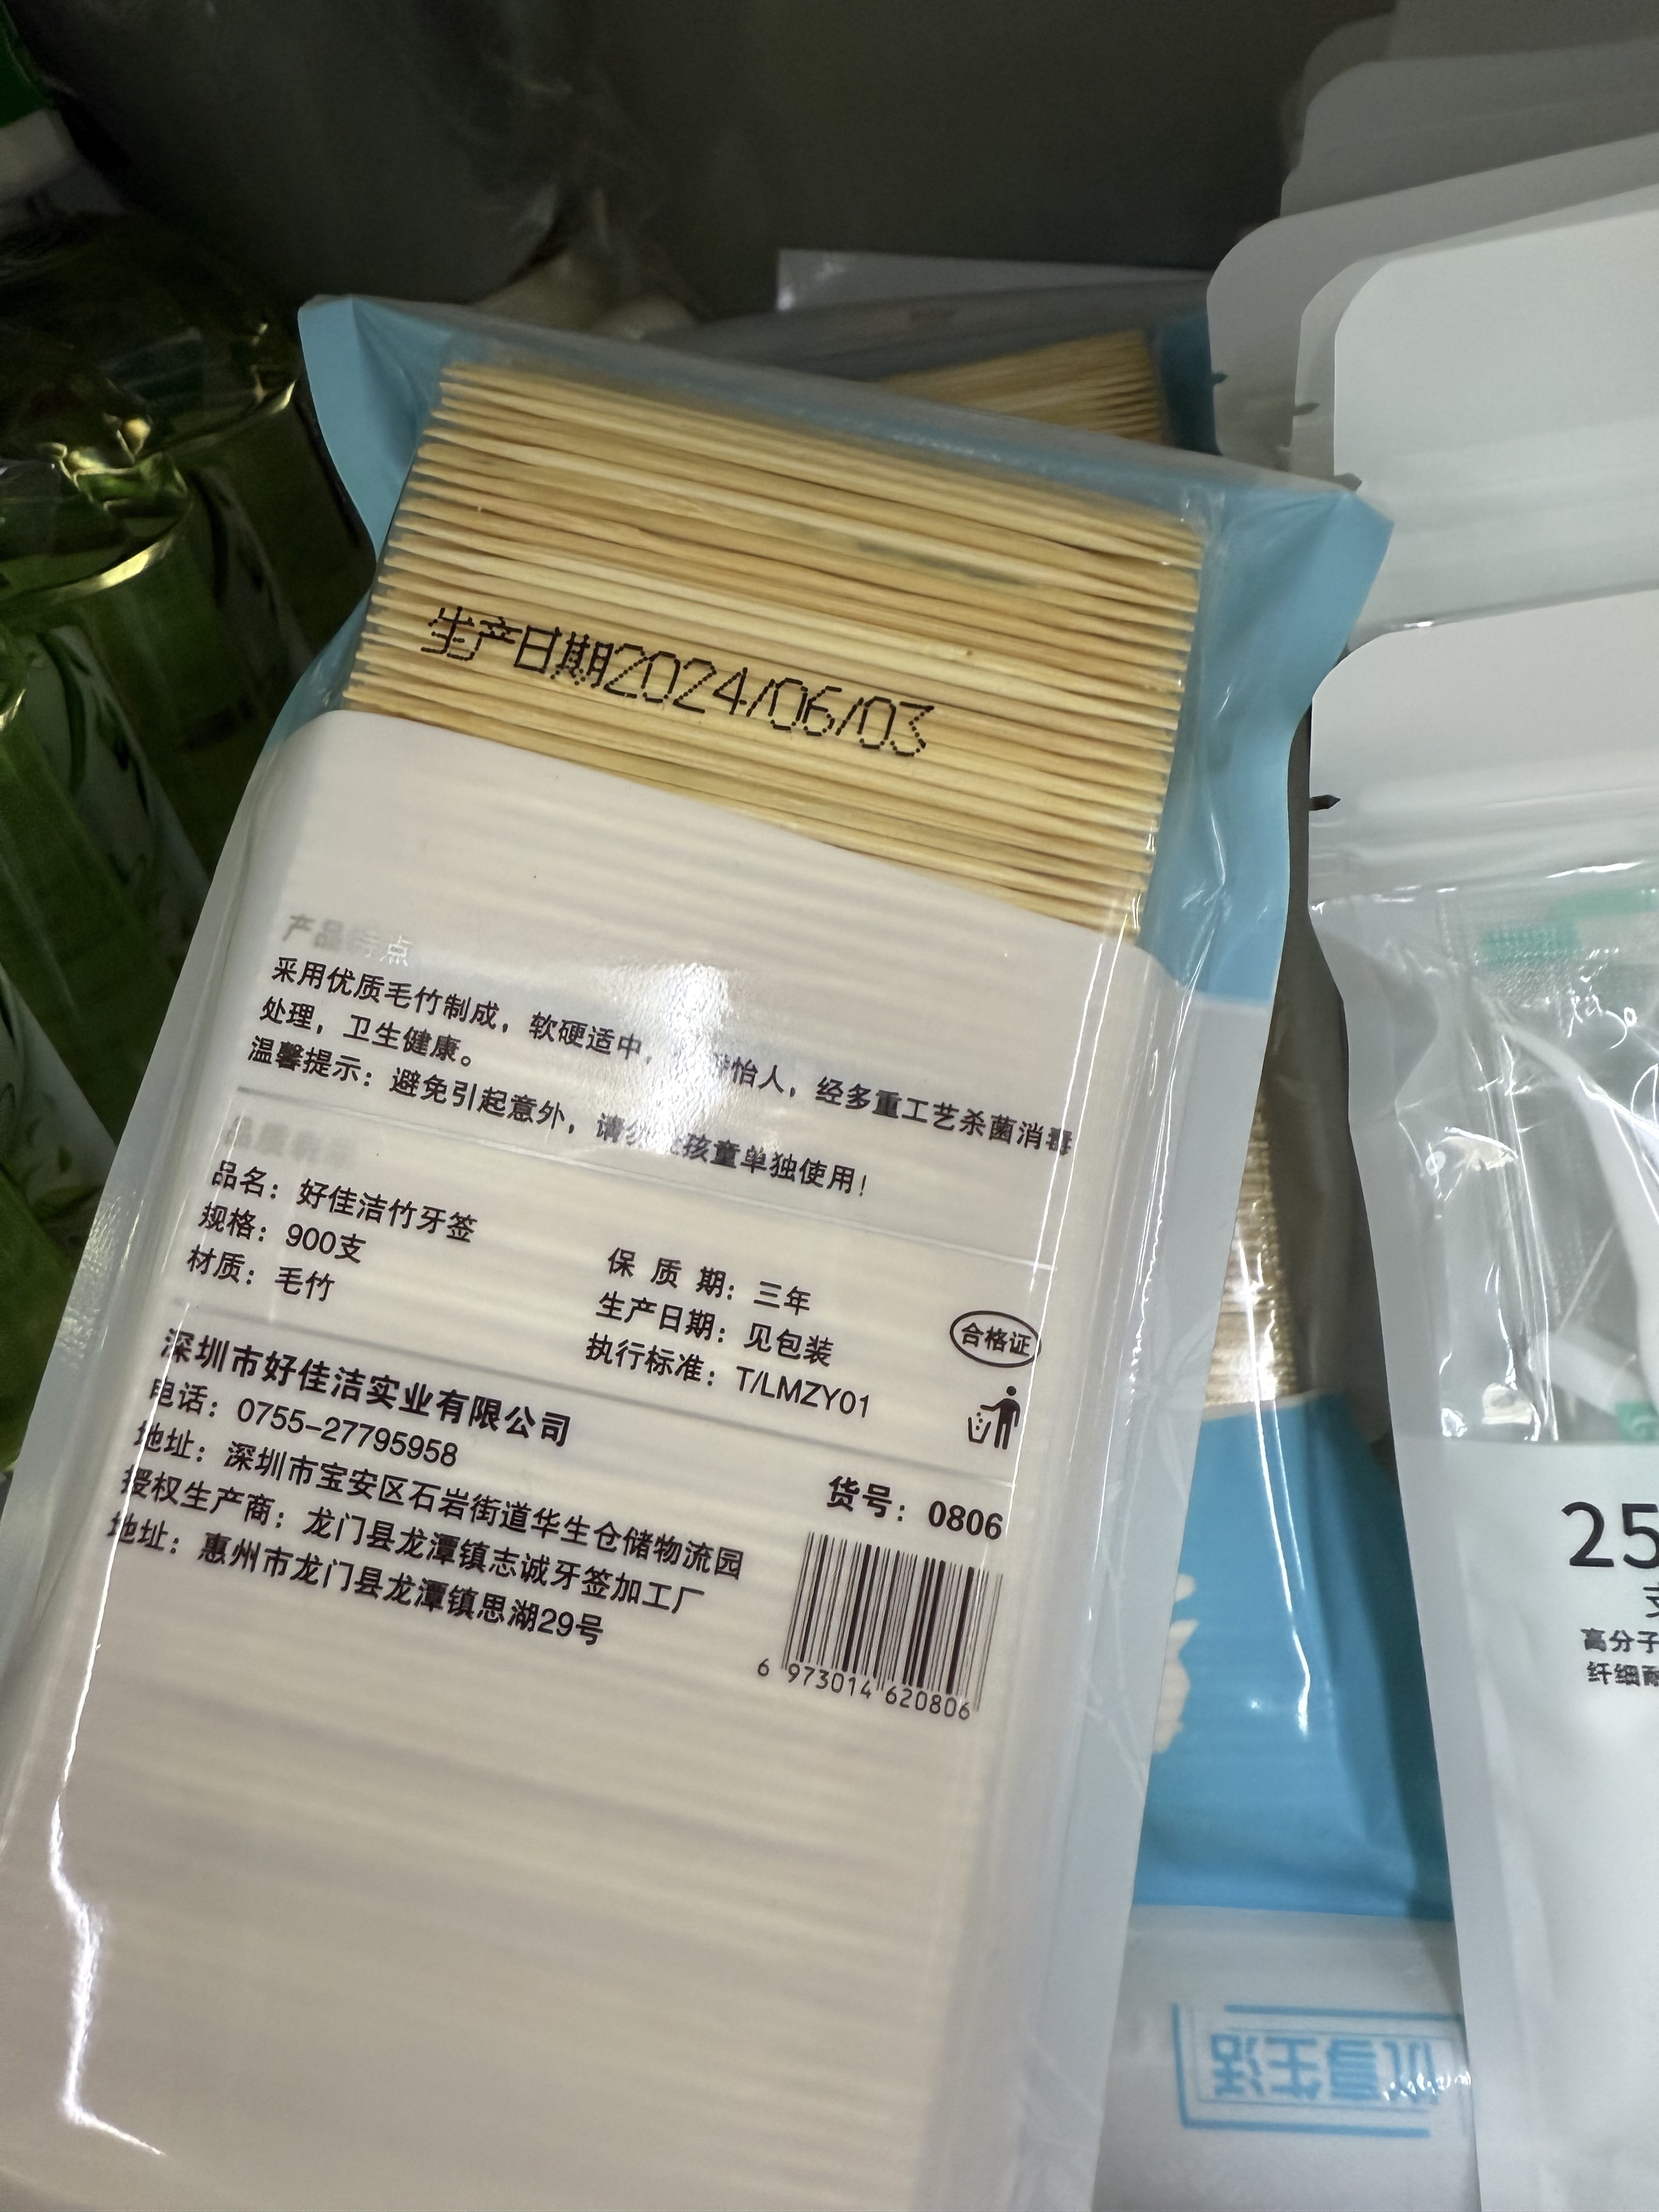bar: (777, 1522, 1012, 1730)
